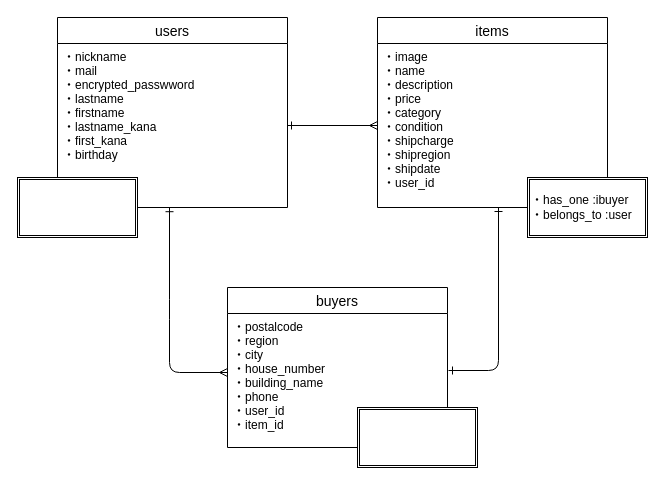
The diagram is 665 pixels wide and 485 high, and some of its shapes have lost their labels. The box of each missing label's shape, as (x1, y1, x2, y2) in pixels:
・belongs_to :item ・belongs_to :user: (356, 406, 478, 468)
・has_many :items ・has_many :buyers: (16, 176, 138, 238)
